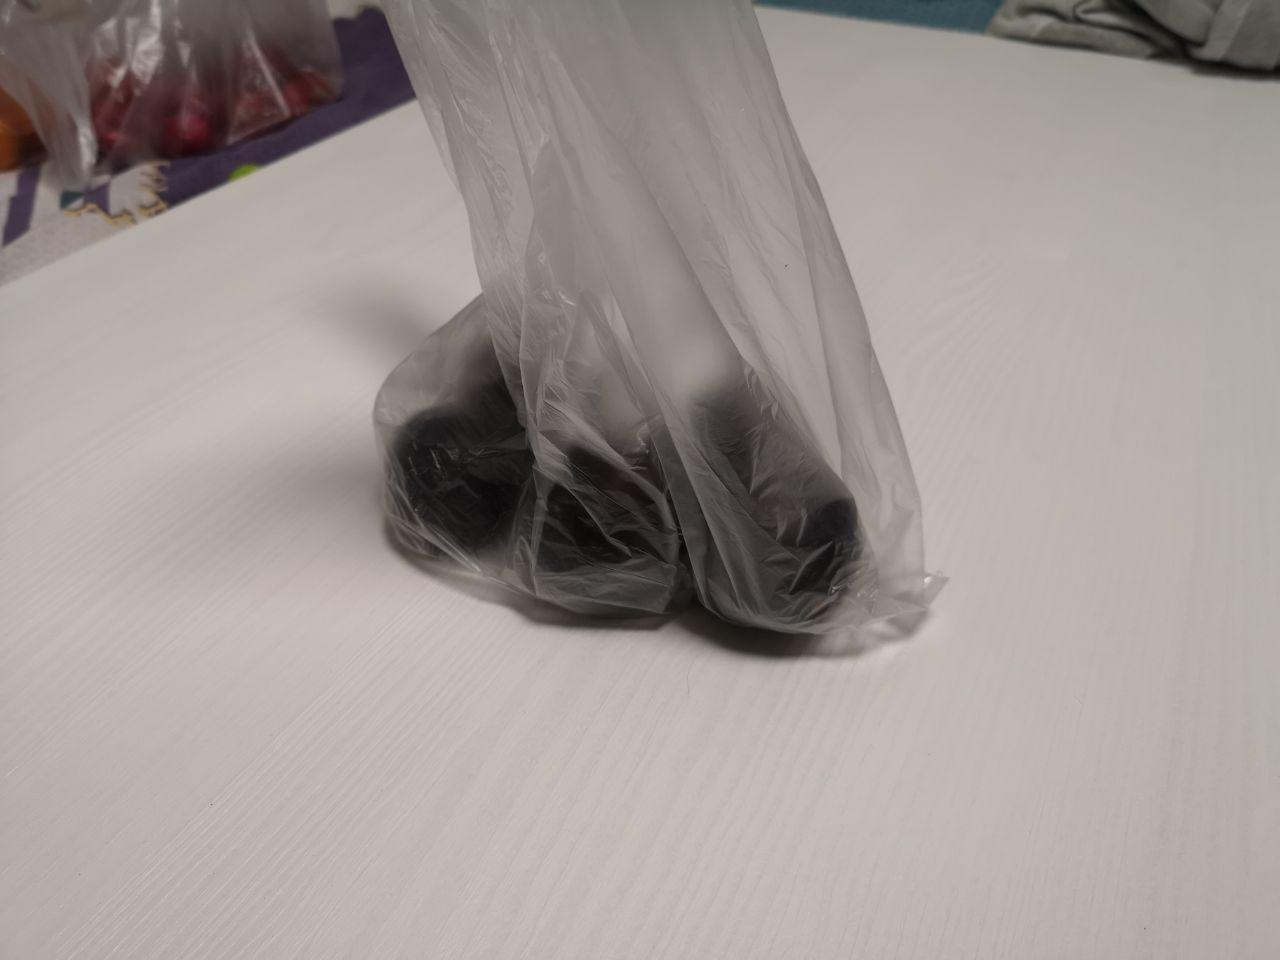plum: (364, 299, 974, 699)
